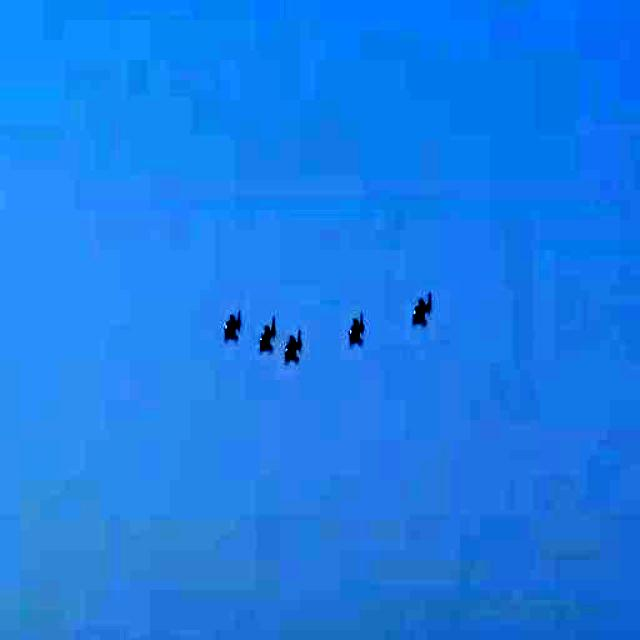drone: (284, 328, 308, 371), (339, 312, 366, 345), (410, 295, 432, 330), (256, 318, 275, 349), (225, 309, 242, 342)
